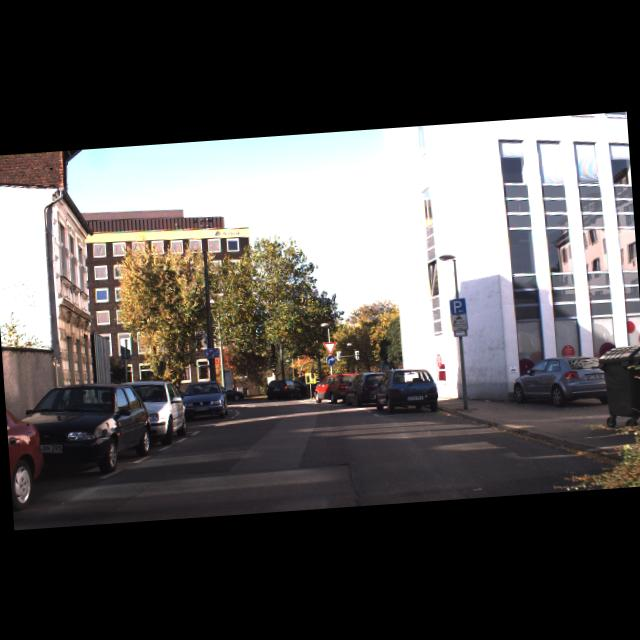mandatory: (326, 354, 336, 366)
other: (322, 341, 336, 354)
